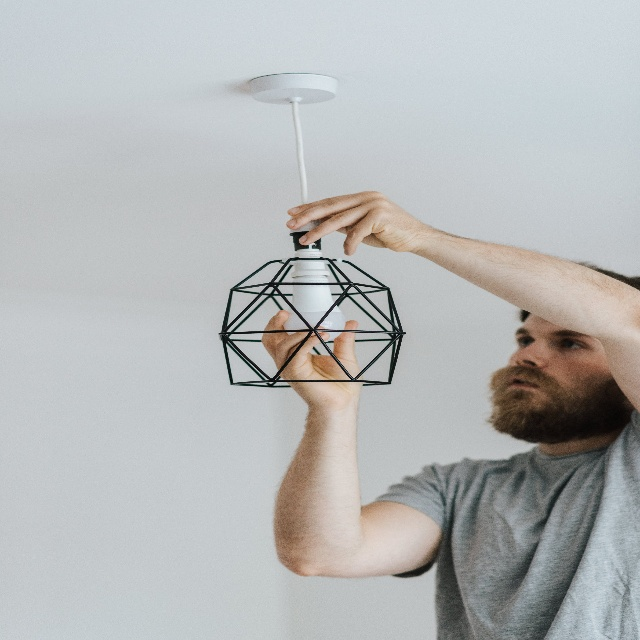Sin_guantes: (259, 306, 365, 419), (288, 187, 426, 265)
